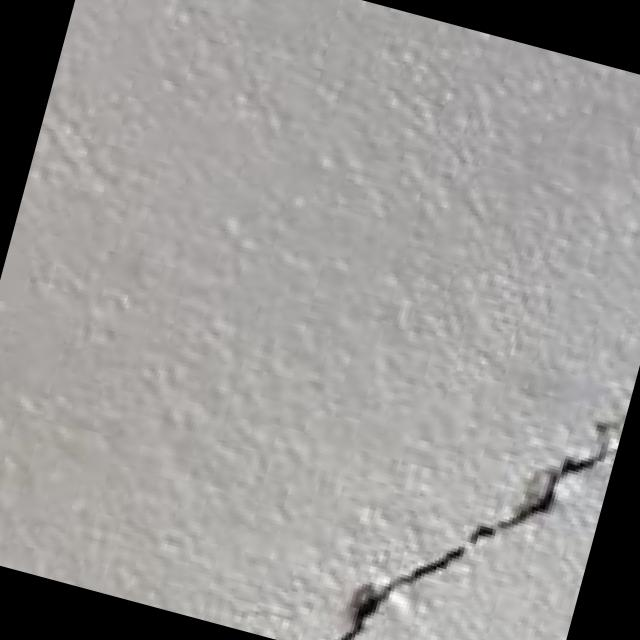crack: (318, 295, 640, 640)
